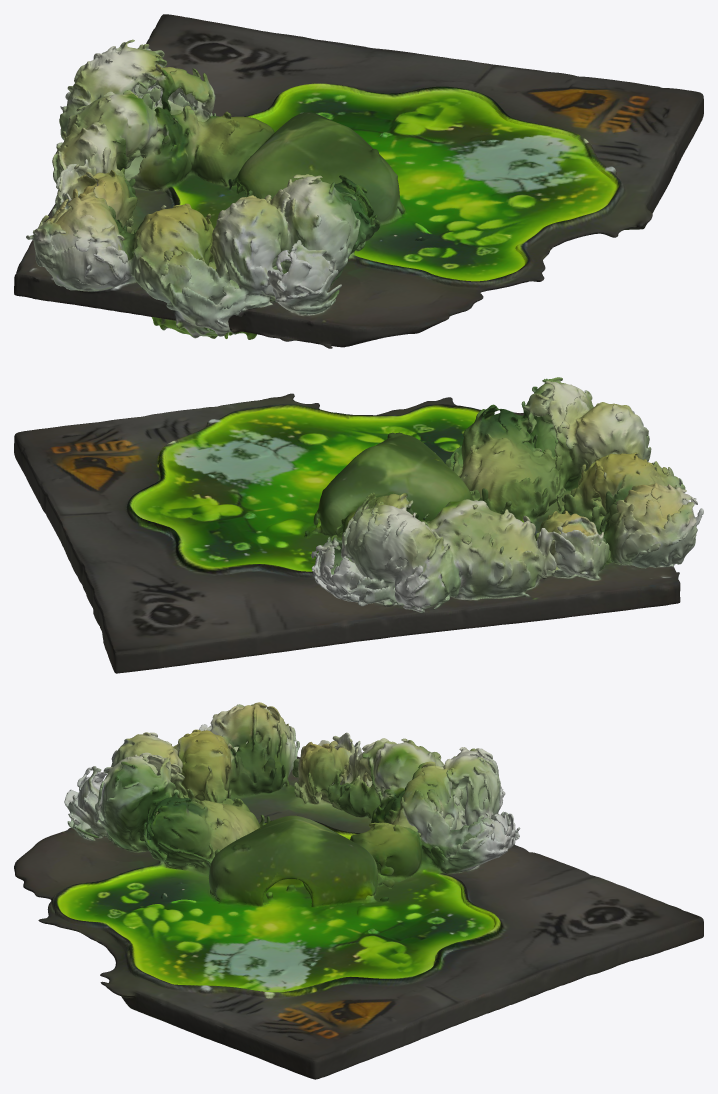
File: tripo_convert_f4446bed-23d0-45ac-8d70-3071acc9a055.fbx
The picture shows the model from 3 angles, top to bottom: view 1: azimuth 30°, elevation 25°; view 2: azimuth 150°, elevation 25°; view 3: azimuth 270°, elevation 25°; orthographic projection. The views are drawn at different scales.
Parts seen in each view (by area): view 1: tripo_node_f4446bed; view 2: tripo_node_f4446bed; view 3: tripo_node_f4446bed.
Boxes of the visible parts, bbox=[...] form: tripo_node_f4446bed: bbox=[14, 14, 703, 348]; tripo_node_f4446bed: bbox=[14, 377, 703, 673]; tripo_node_f4446bed: bbox=[14, 702, 703, 1079].
Size of the model in its own units: 100 by 94.68 by 20.79.
1 material, 1 textured.
